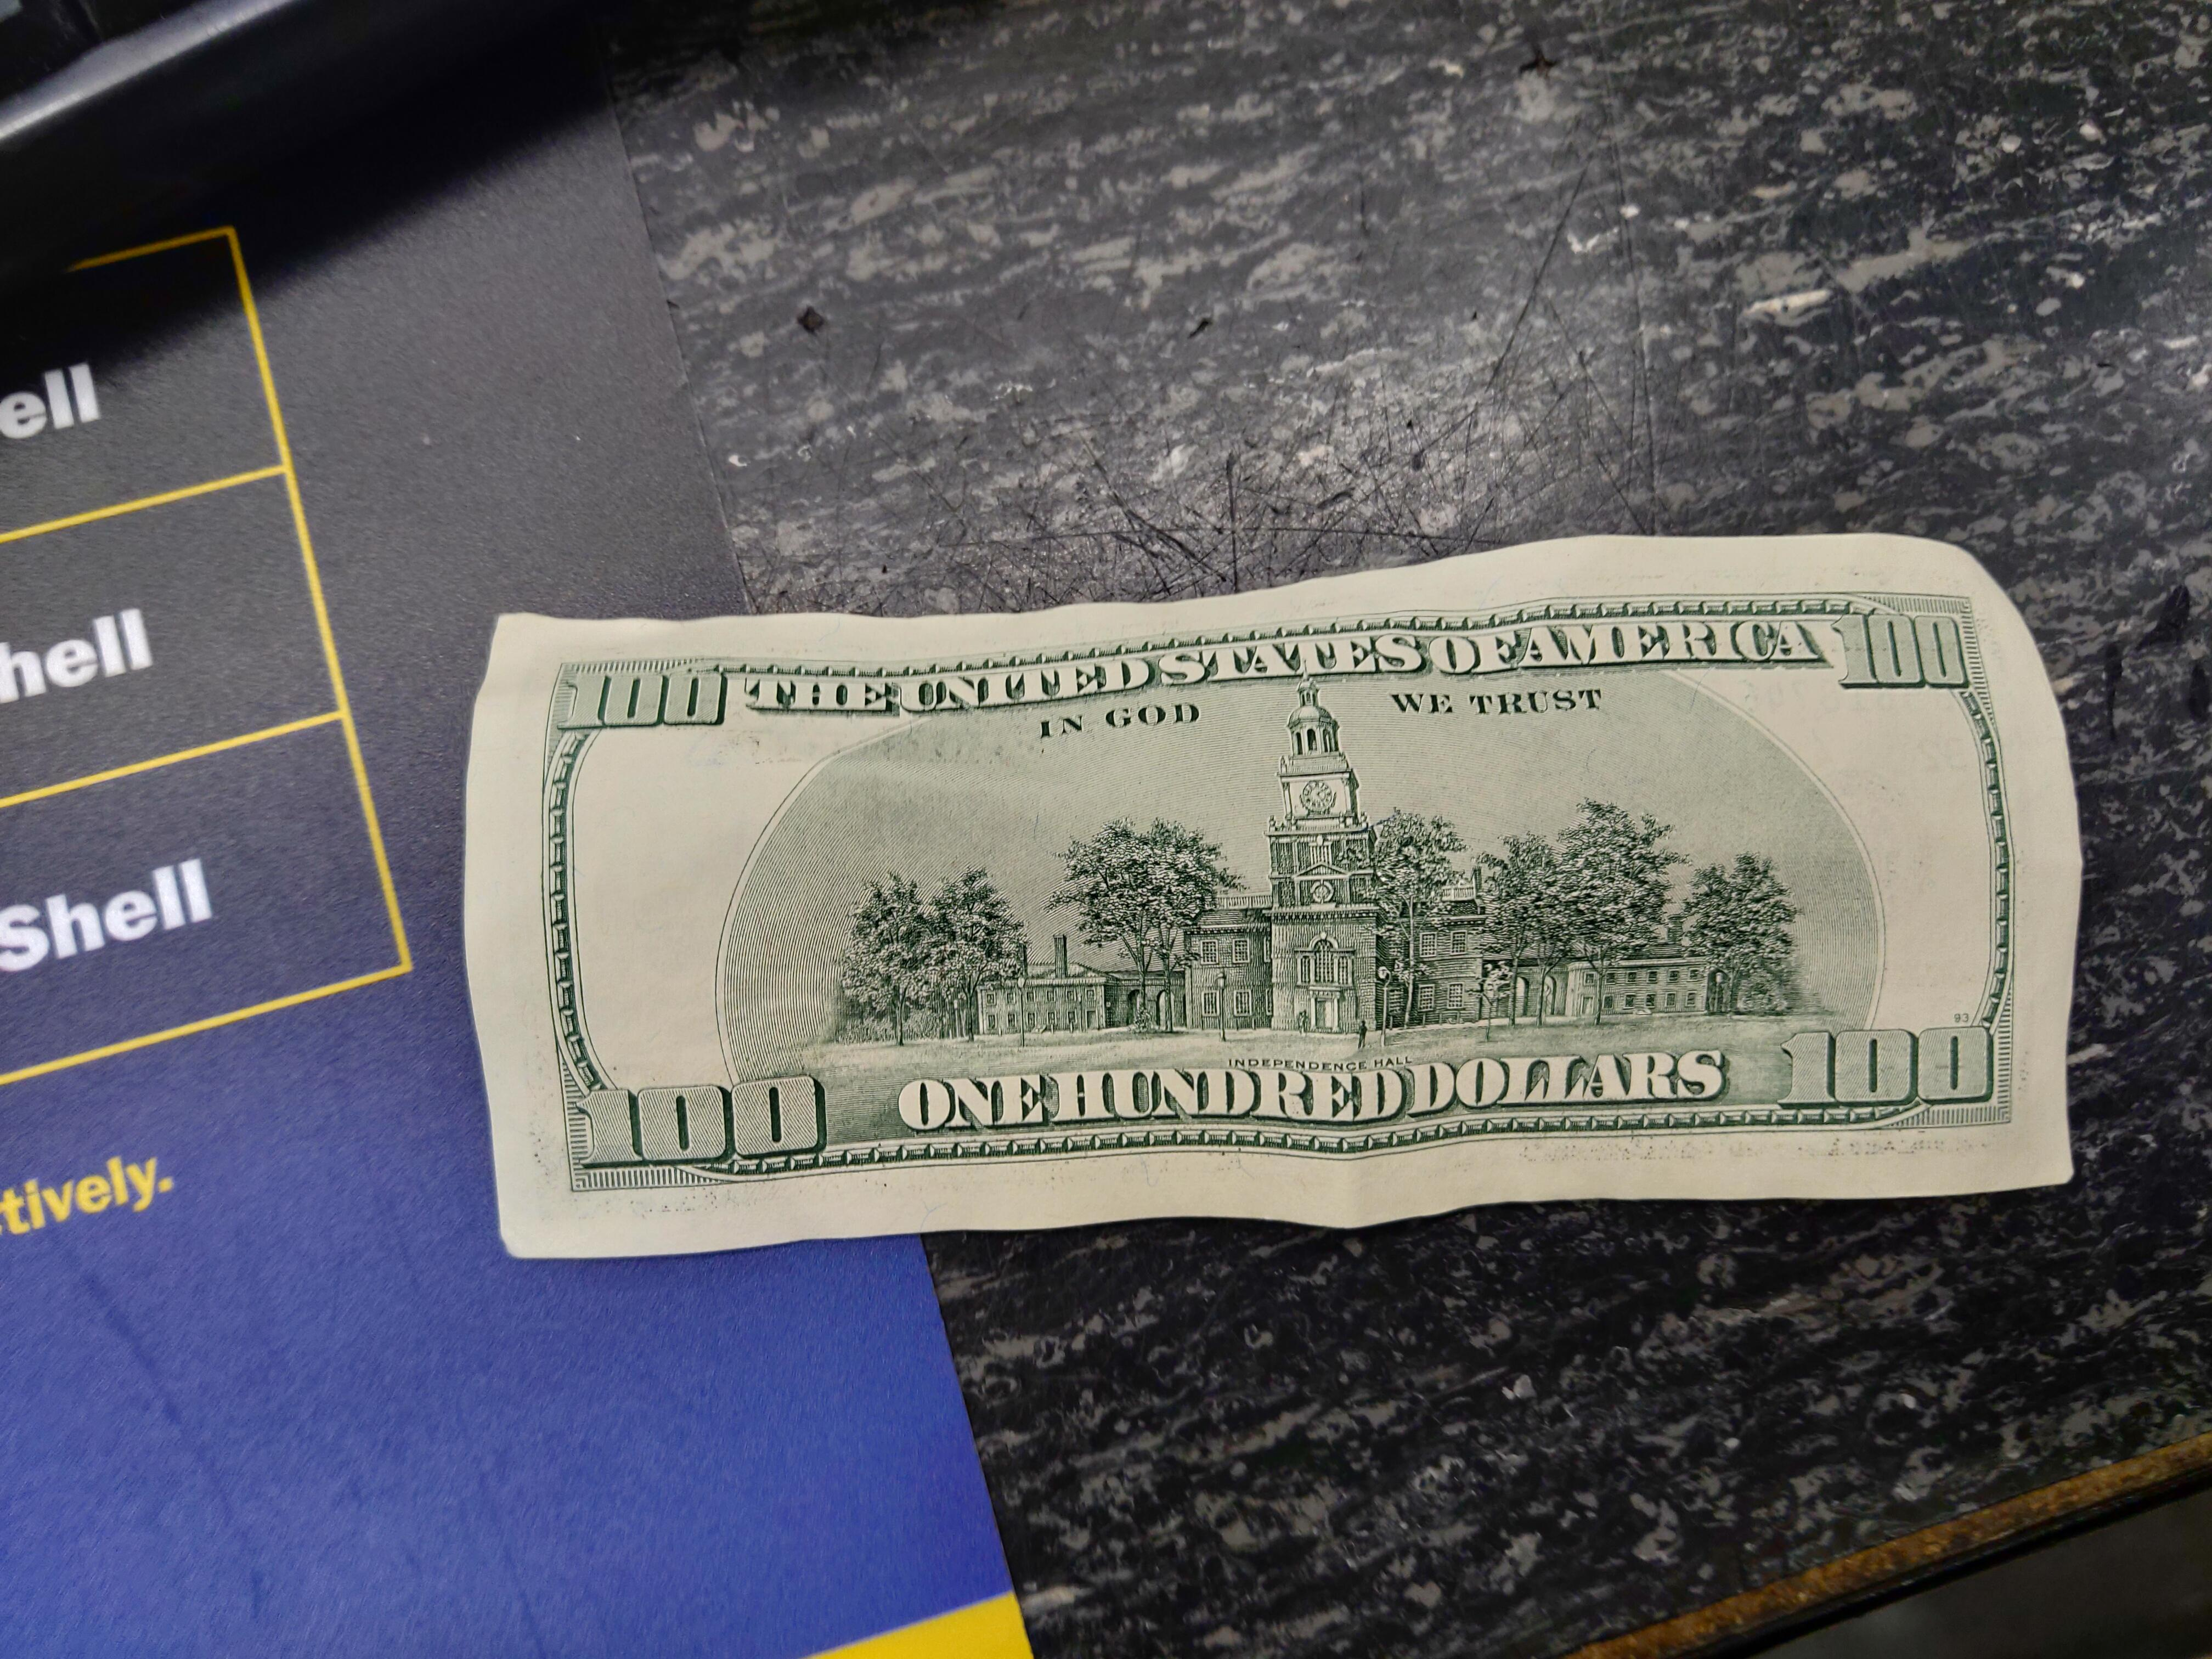HundredBill: (455, 528, 2085, 1272)
